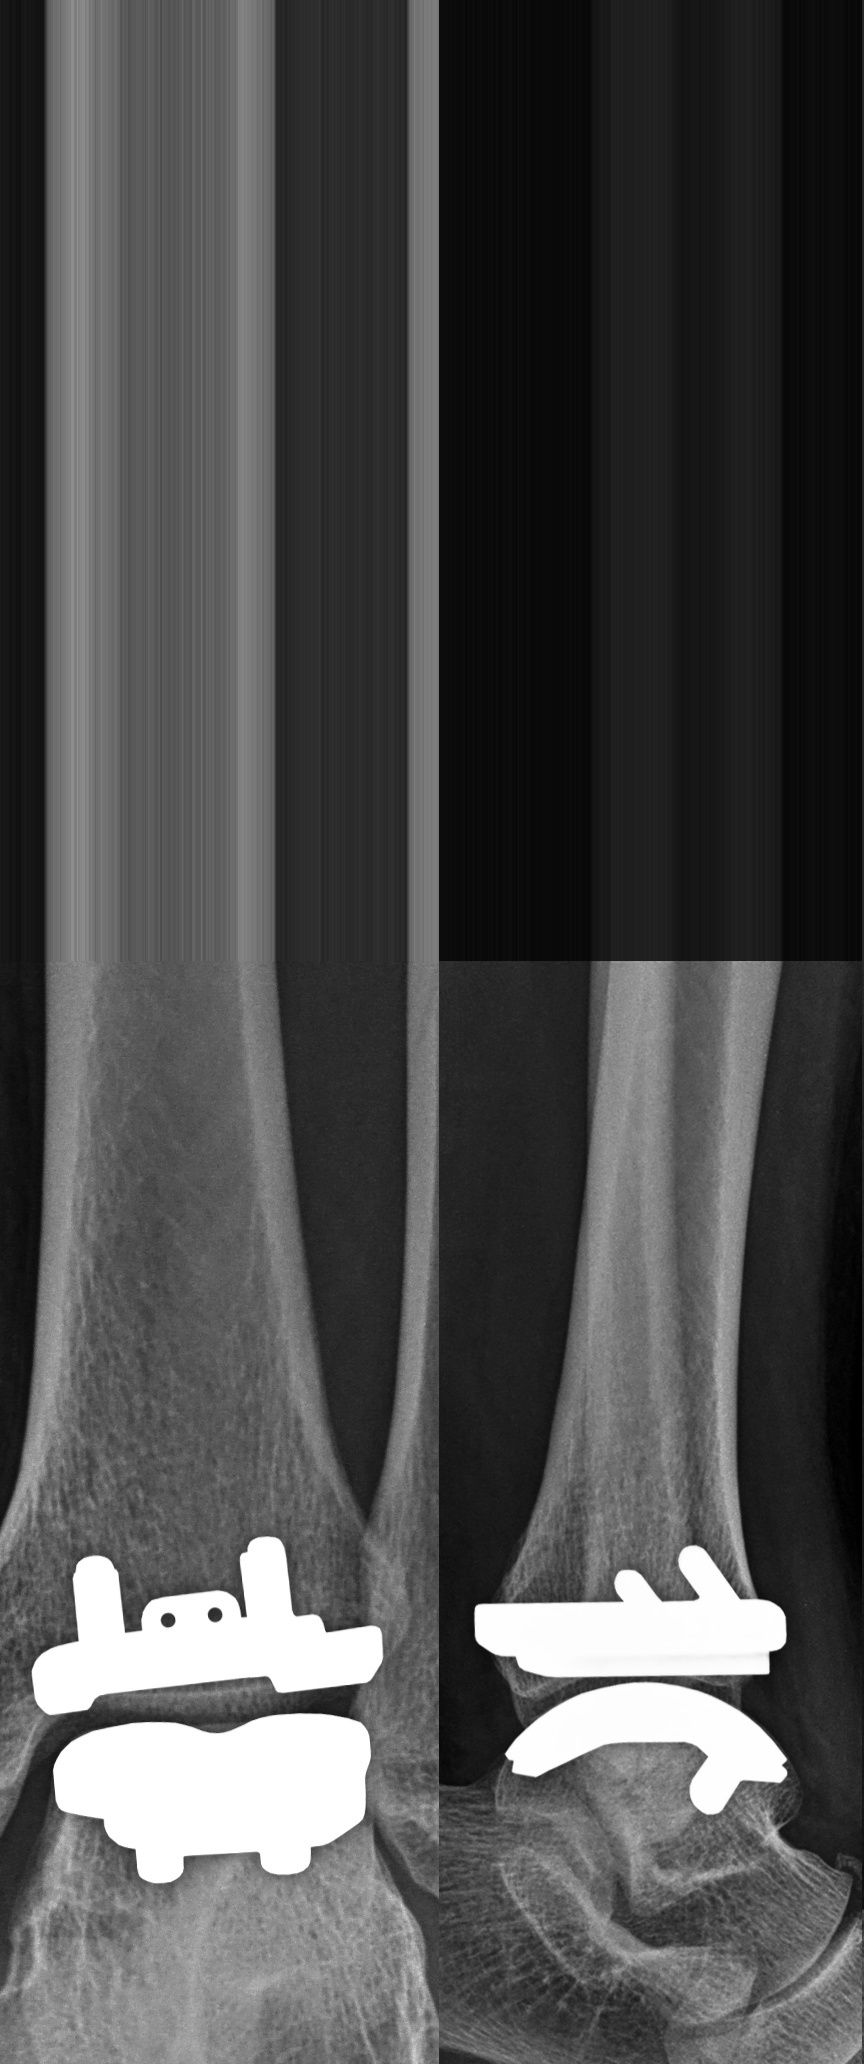Cadence-Integra: (17, 1520, 386, 1899), (460, 1537, 815, 1824)
